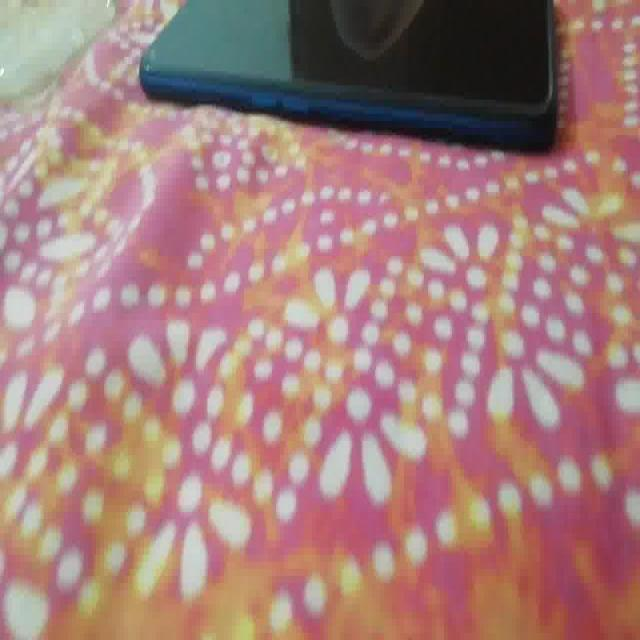phone: (136, 5, 560, 159)
